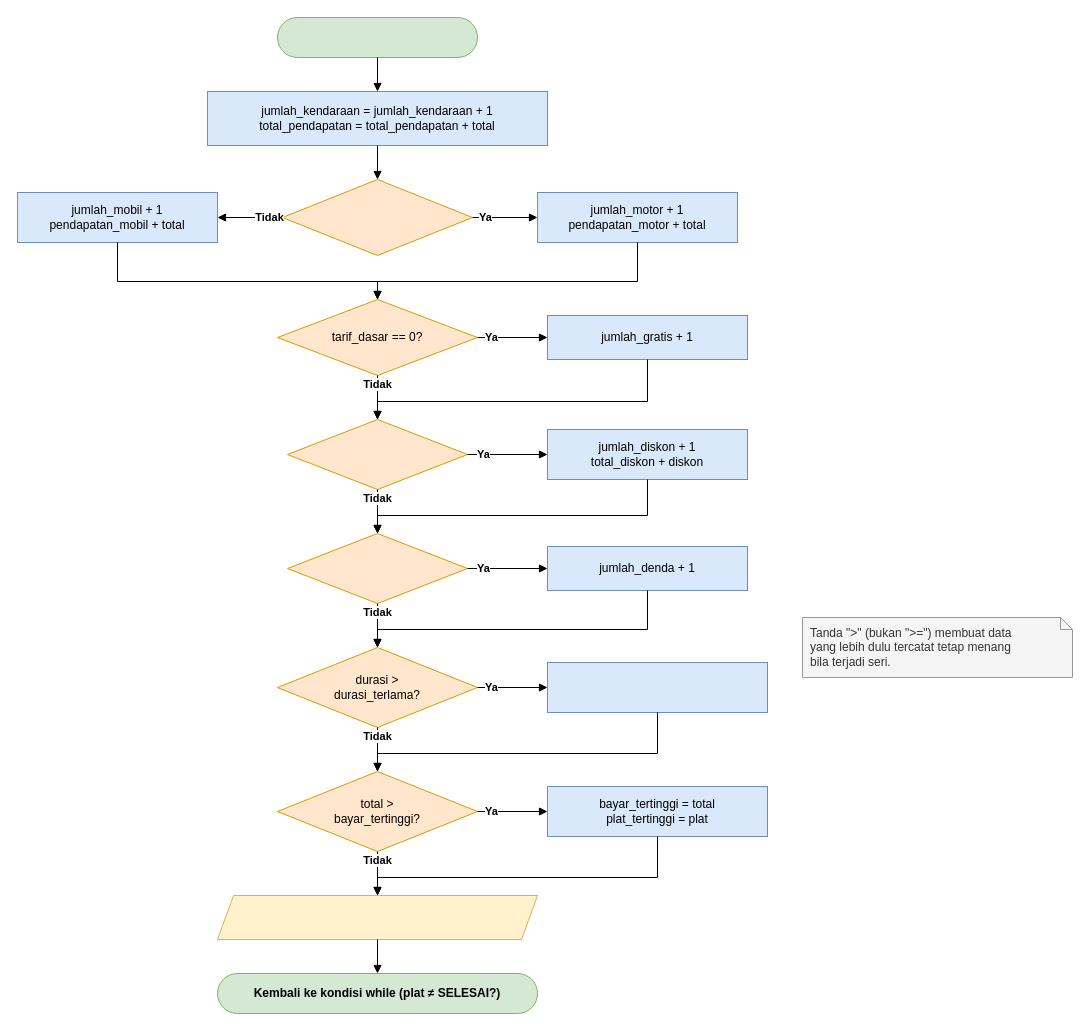
Some shapes in this 1090 by 1031 pixel diagram are drawn without their labels. The shapes that lost their labels are listed below. From the top down, each one's centre as x and y in pixels, then its label:
point 377,37: Setelah struk dicetak
point 377,217: jenis == "motor"?
point 377,454: diskon > 0?
point 377,568: denda > 0?
point 657,687: durasi_terlama = durasi plat_terlama = plat
point 377,917: Baca plat berikutnya (ulang bila kosong)
